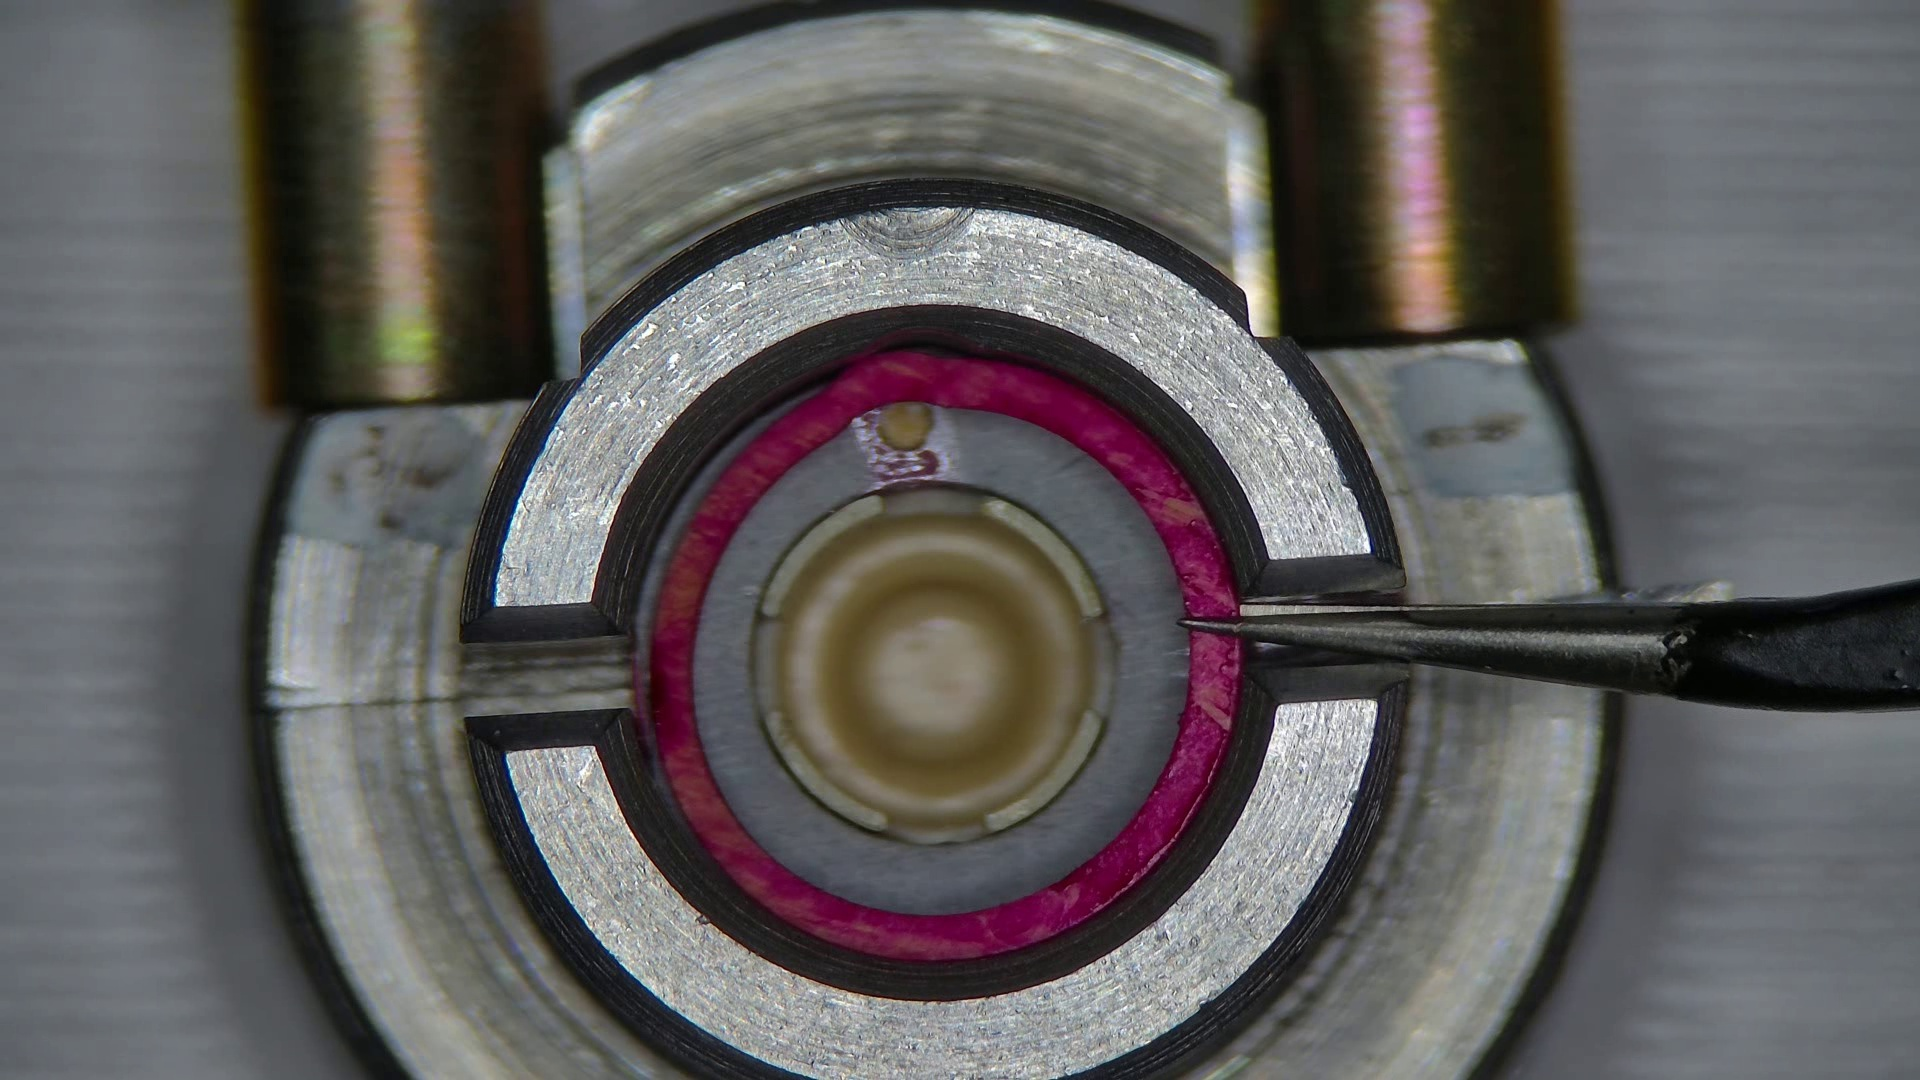GreyOring: (644, 349, 1237, 959)
YellowOring: (694, 405, 1189, 913)
